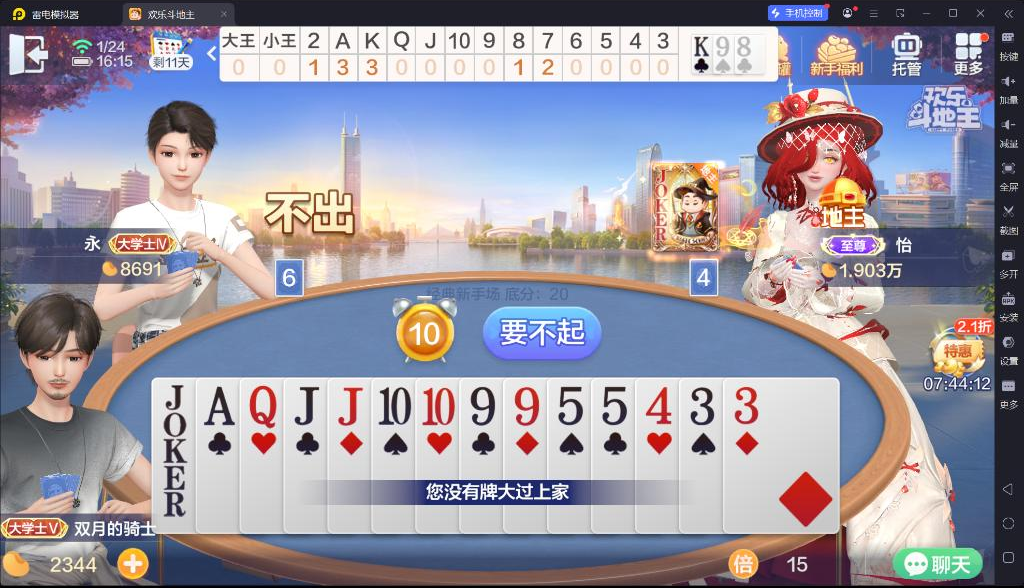A: (202, 382, 236, 428)
J: (290, 382, 322, 426), (333, 383, 364, 427)
JOKER: (652, 163, 670, 216)
K: (693, 36, 710, 57)
Q: (245, 382, 278, 430)
eight: (736, 35, 752, 57)
five: (596, 383, 630, 427), (552, 384, 586, 427)
four: (641, 383, 675, 426)
joker: (160, 381, 188, 471)
nine: (508, 384, 544, 427), (466, 384, 497, 427), (715, 35, 731, 57)
ten: (376, 384, 413, 427), (419, 384, 455, 427)
three: (687, 383, 717, 428), (731, 383, 762, 425)
